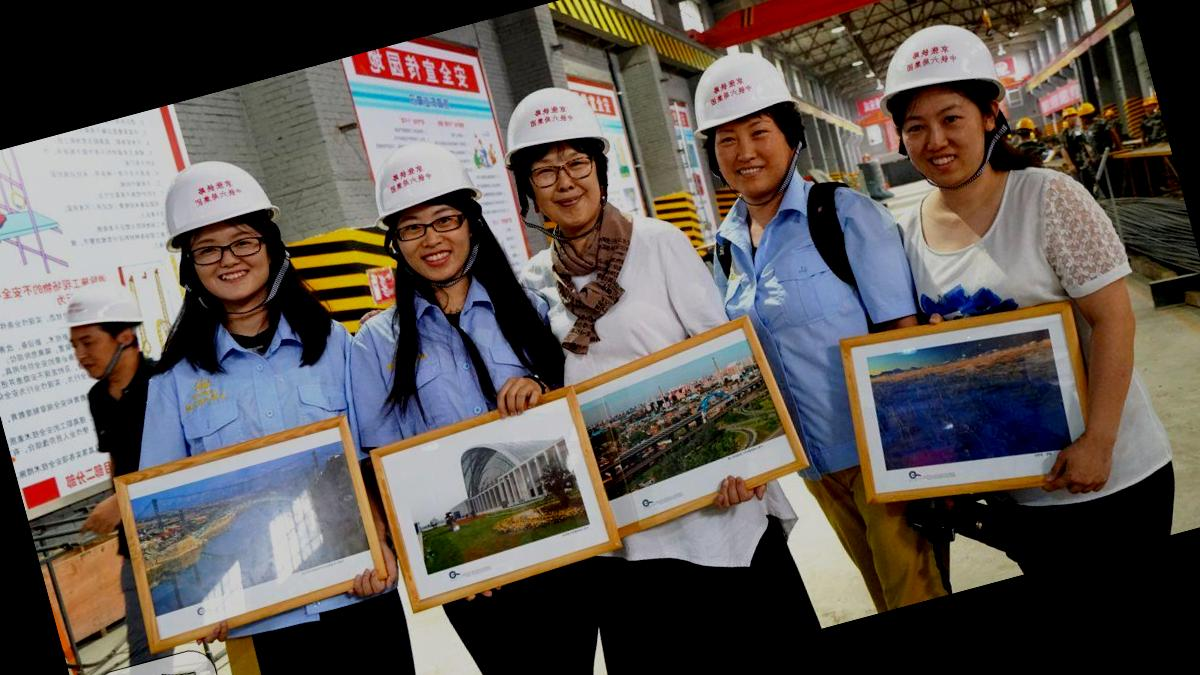helmet: (856, 2, 1011, 126), (134, 139, 288, 257), (491, 72, 618, 188), (672, 44, 802, 144), (360, 123, 485, 224)
no_vest: (883, 154, 1184, 533), (721, 167, 907, 461), (517, 188, 717, 416), (356, 274, 542, 452), (140, 318, 346, 477)
person: (52, 126, 451, 675), (840, 0, 1200, 584), (479, 59, 803, 675), (655, 26, 982, 632), (284, 116, 634, 675)
